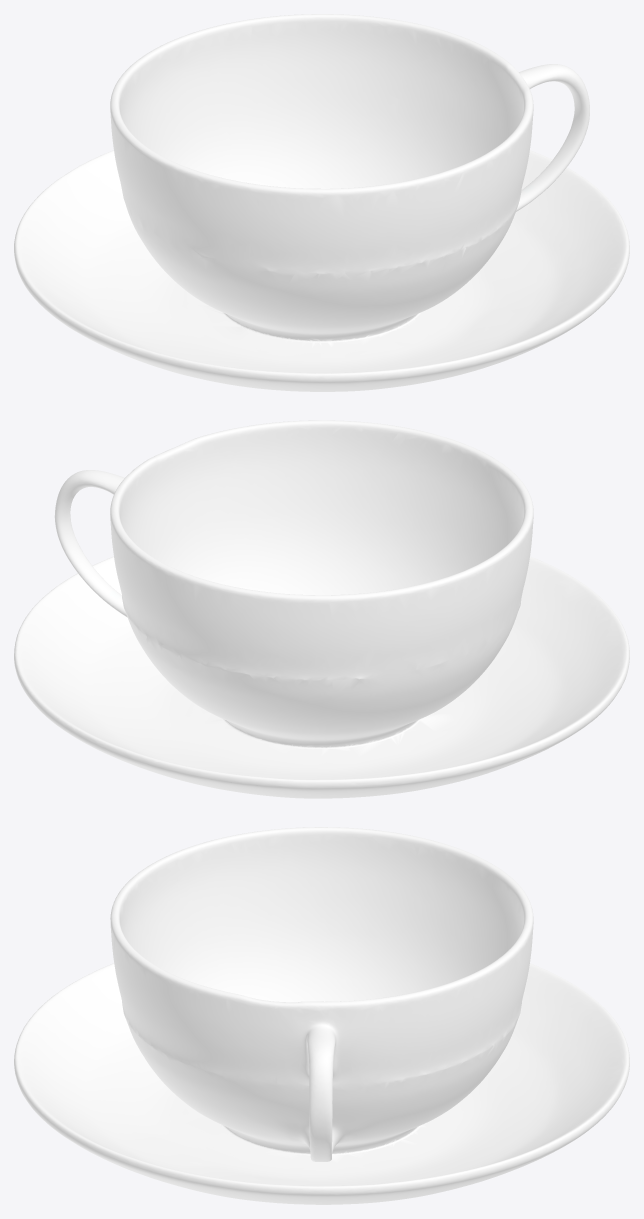
Rendered from cup.glb.
3 renders of one model, top to bottom at view 1: azimuth 30°, elevation 25°; view 2: azimuth 150°, elevation 25°; view 3: azimuth 270°, elevation 25°, orthographic.
Bounding box in the file's own units: 1.9 × 0.7796 × 1.9.
Materials: 1 (1 with a texture image).
